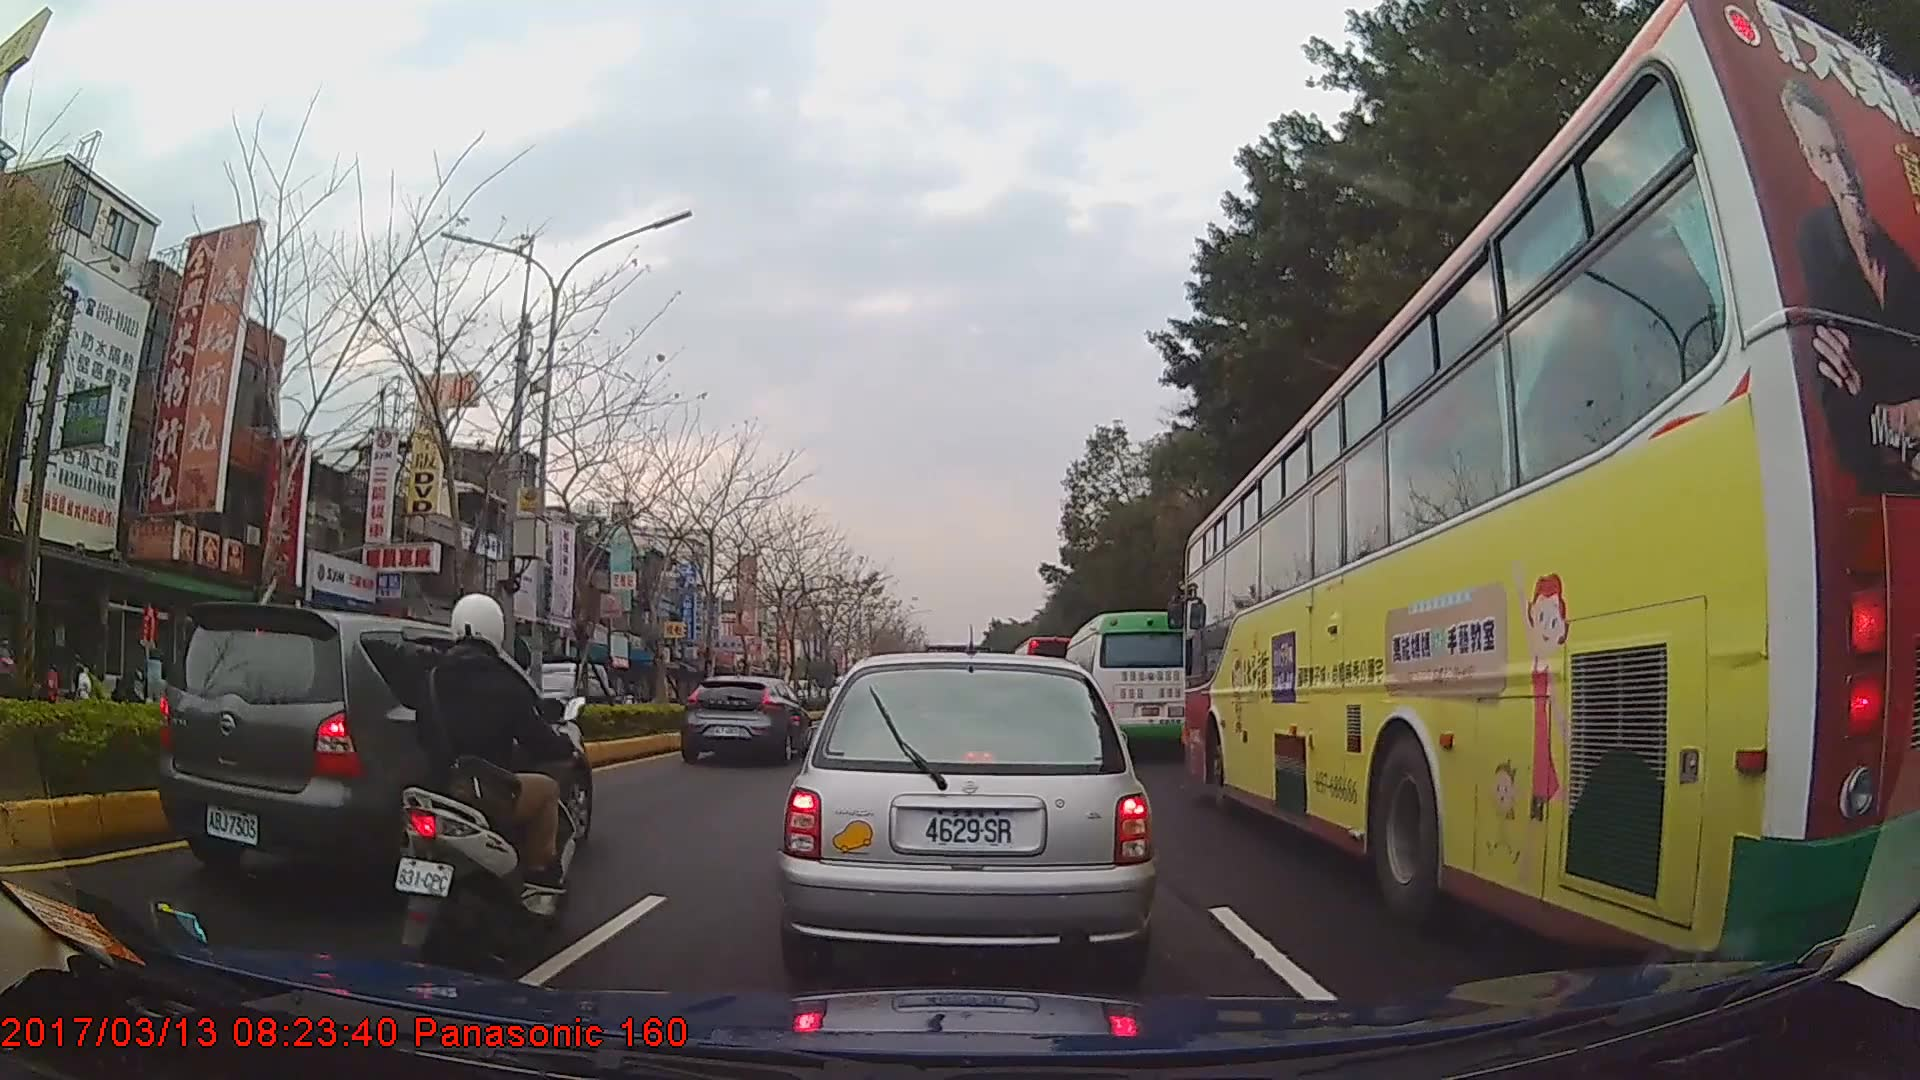rider: (391, 594, 580, 977)
vehicle: (1183, 3, 1920, 968), (159, 601, 591, 903), (777, 651, 1156, 985), (1062, 610, 1196, 761), (677, 673, 810, 771), (498, 670, 615, 731)
